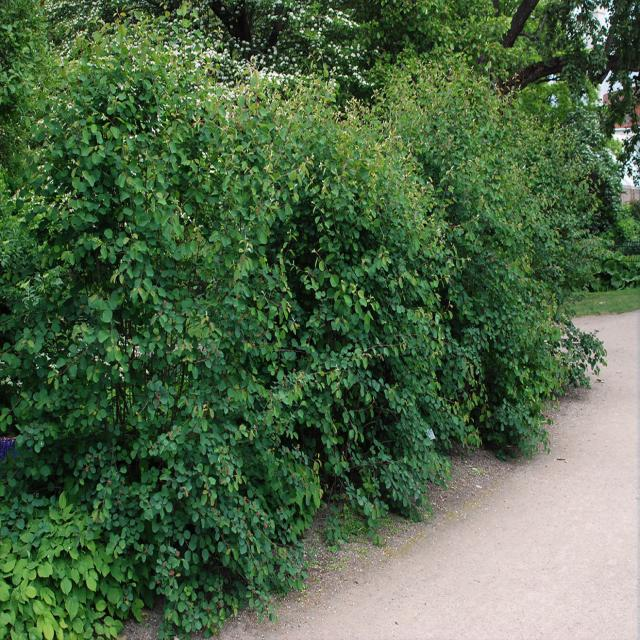Amelanchier alnifolia: (28, 45, 309, 599), (182, 59, 457, 543), (371, 24, 611, 469)
